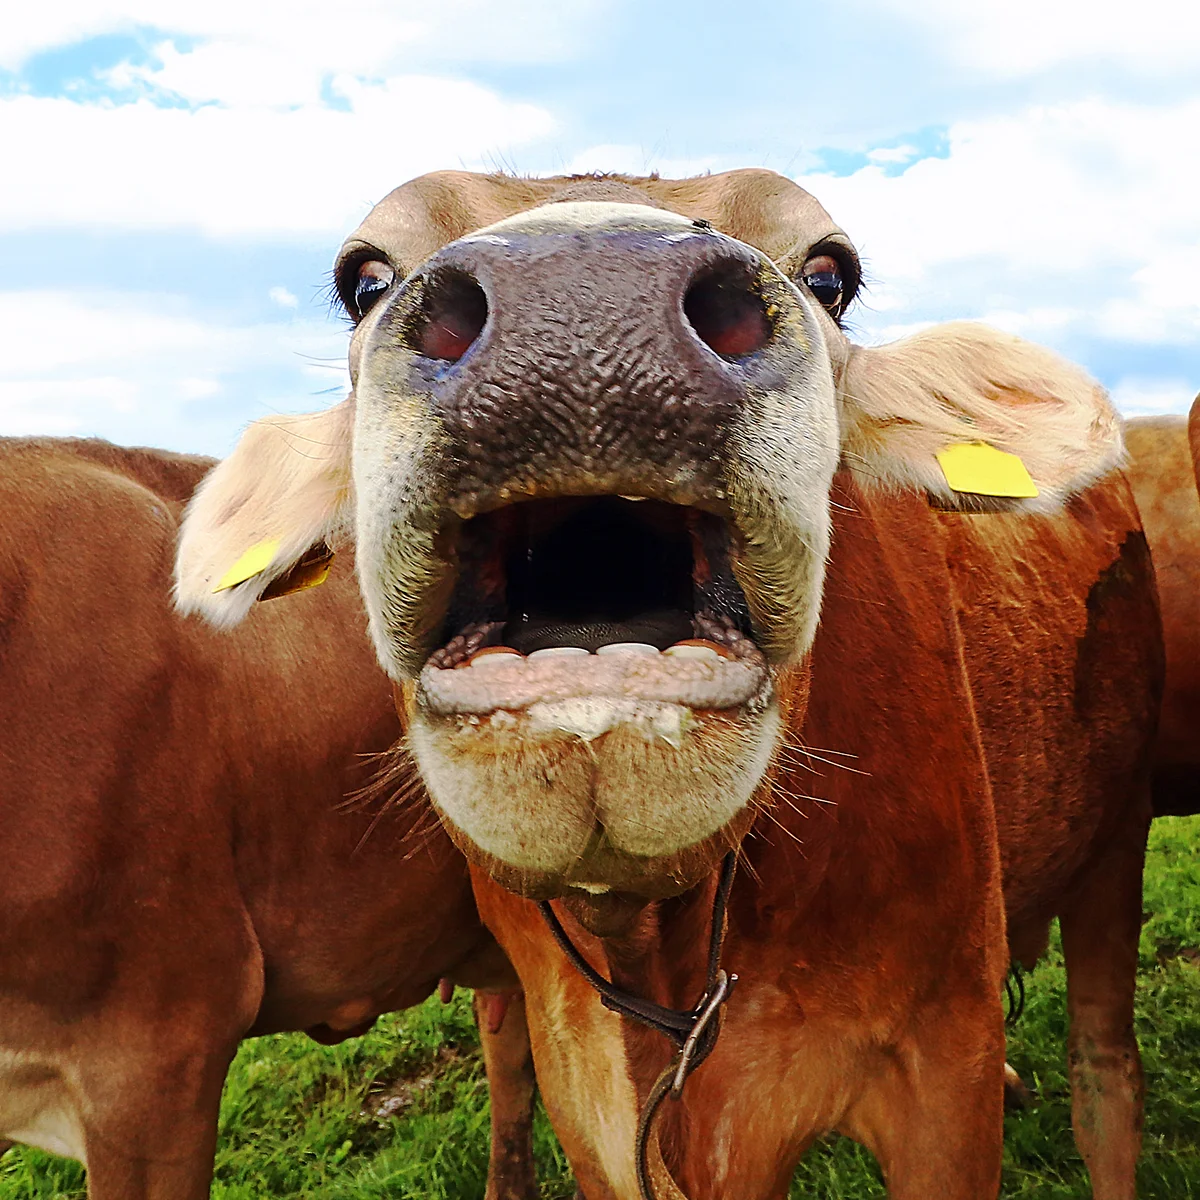cow: (145, 143, 1200, 1189)
